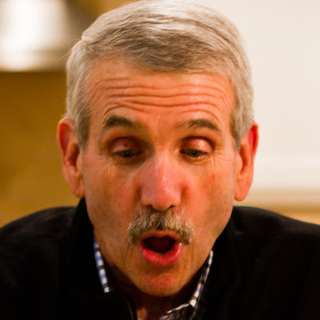eye: (177, 139, 219, 164), (107, 141, 149, 166)
